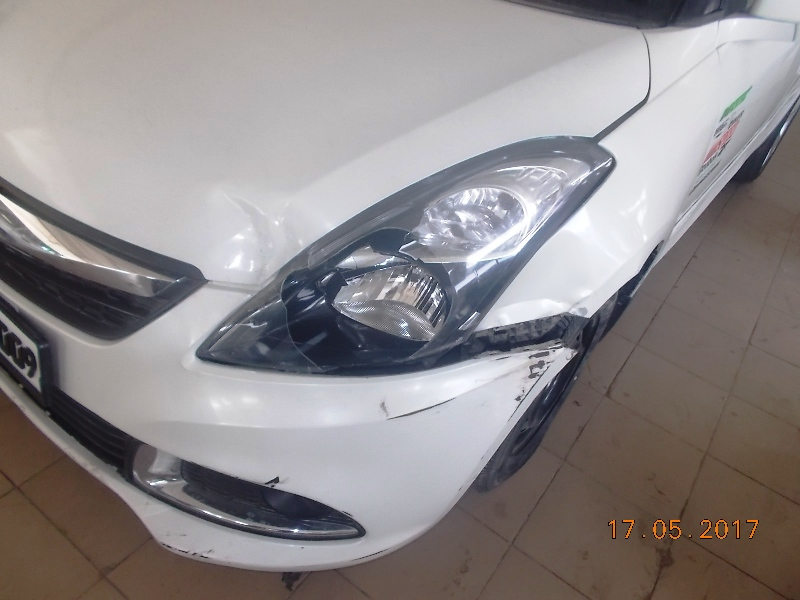Dent: (230, 201, 281, 260)
Dislocation: (472, 305, 584, 375)
Scratch_or_spot: (387, 403, 455, 419), (503, 391, 524, 412), (263, 470, 287, 487)
